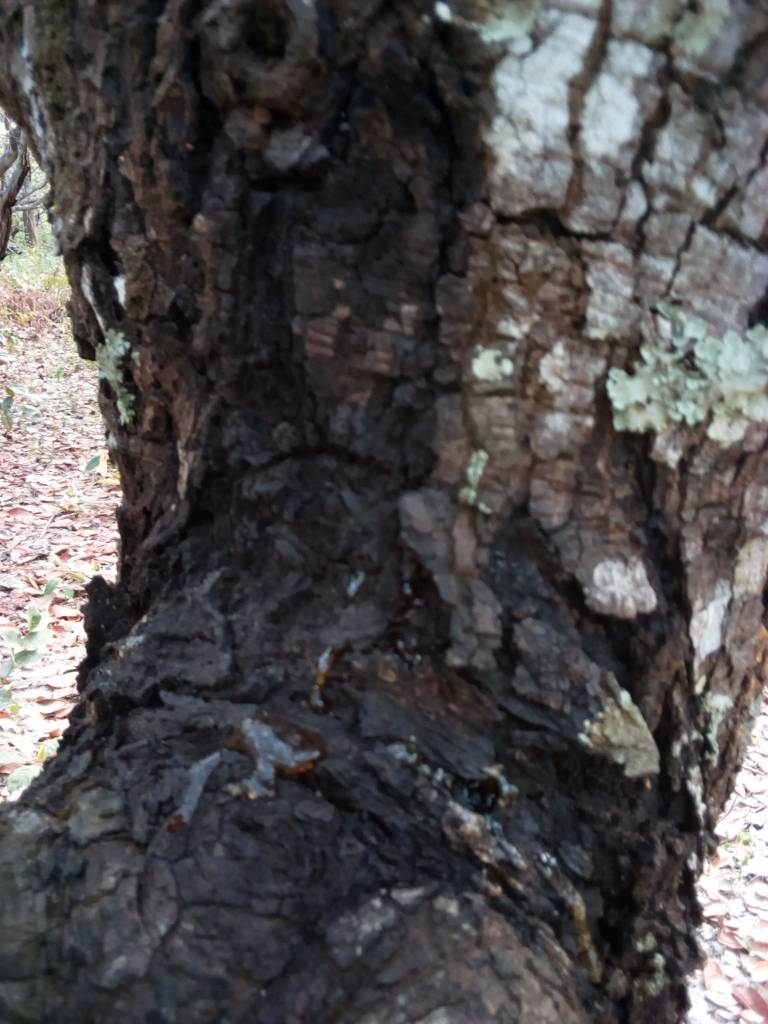Gommose: (135, 100, 552, 913)
